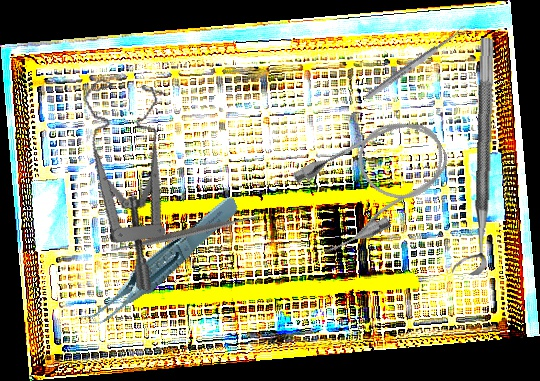Cannula: (283, 103, 465, 261)
Fixation Ring: (451, 37, 496, 276)
Spatula Surgical: (104, 152, 267, 315)
Speculum: (37, 70, 206, 292)
Surgical Spoon: (363, 24, 469, 102)
Tissue Forceps: (59, 194, 258, 331)
